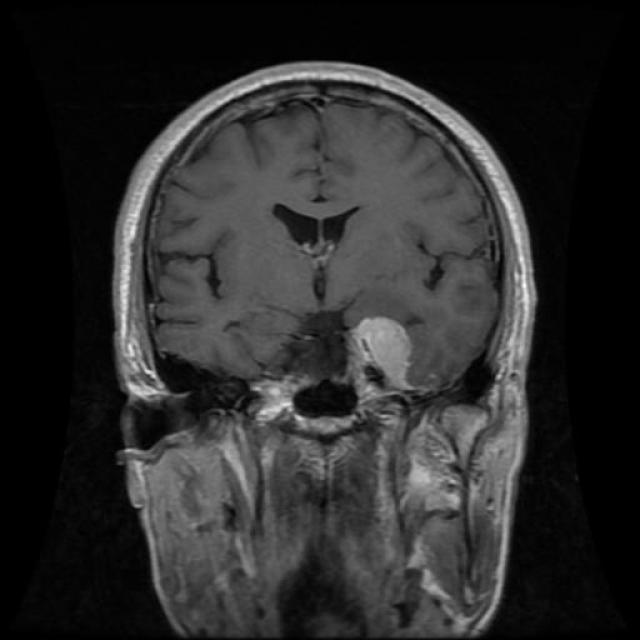meningioma: (354, 316, 414, 390)
